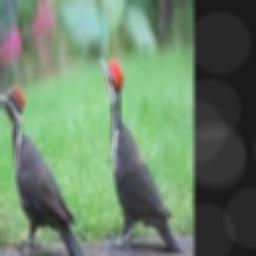Woodpecker: (98, 55, 181, 250), (0, 82, 89, 256)
